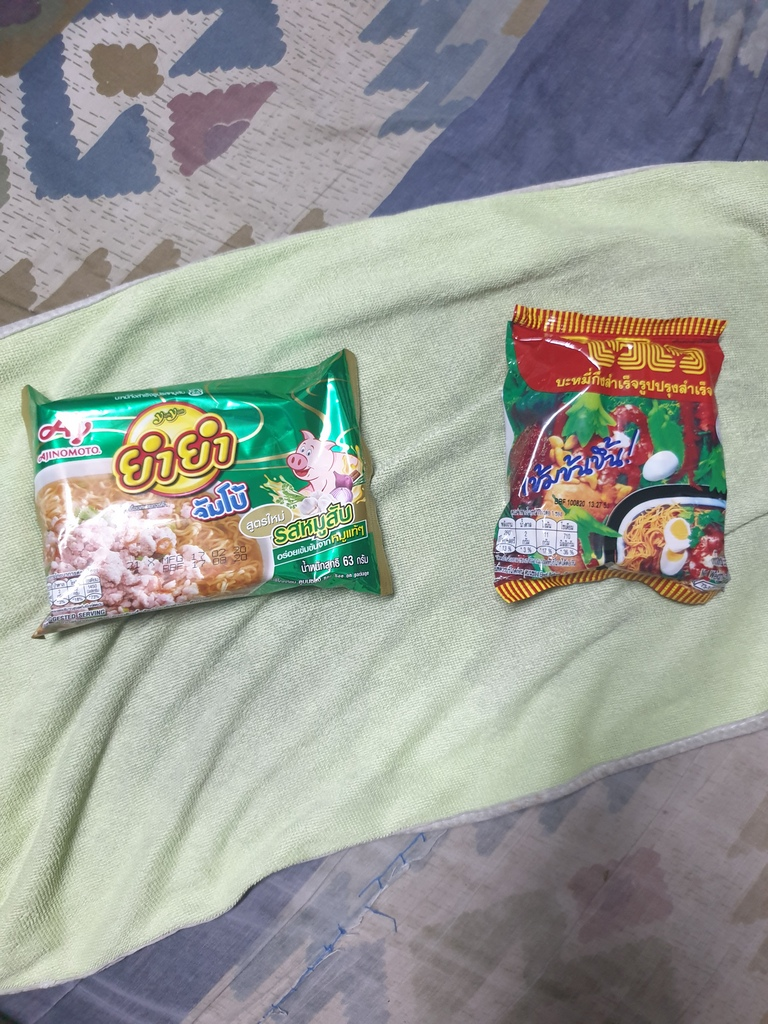waiwai: (501, 305, 730, 601)
yumyum: (15, 346, 397, 614)
